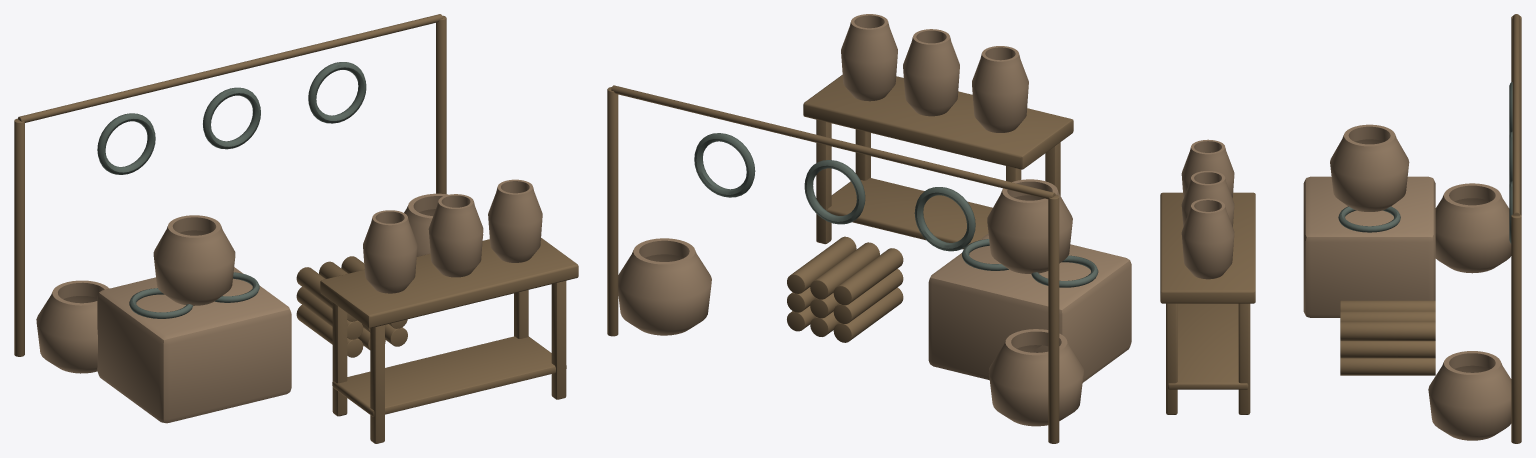
The model's file is VillageKitchen08.fbx.
The picture shows the model from 3 angles, left to right: view 1: azimuth 30°, elevation 25°; view 2: azimuth 150°, elevation 25°; view 3: azimuth 270°, elevation 25°; orthographic projection. The views are drawn at different scales.
Parts seen in each view (by area): view 1: VillageKitchen08; view 2: VillageKitchen08; view 3: VillageKitchen08.
Part boxes in pixels (left/top/right/bottom): VillageKitchen08: left=14, top=14, right=578, bottom=443; VillageKitchen08: left=607, top=14, right=1131, bottom=443; VillageKitchen08: left=1160, top=14, right=1521, bottom=443.
Bounding box in the file's own units: 334 × 246 × 173.
